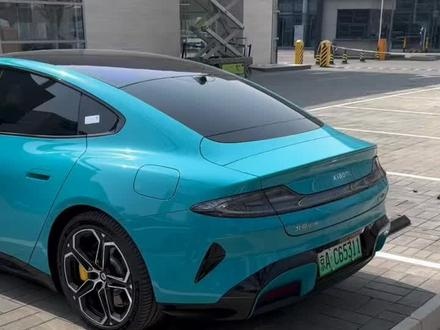su7: (0, 48, 392, 330)
